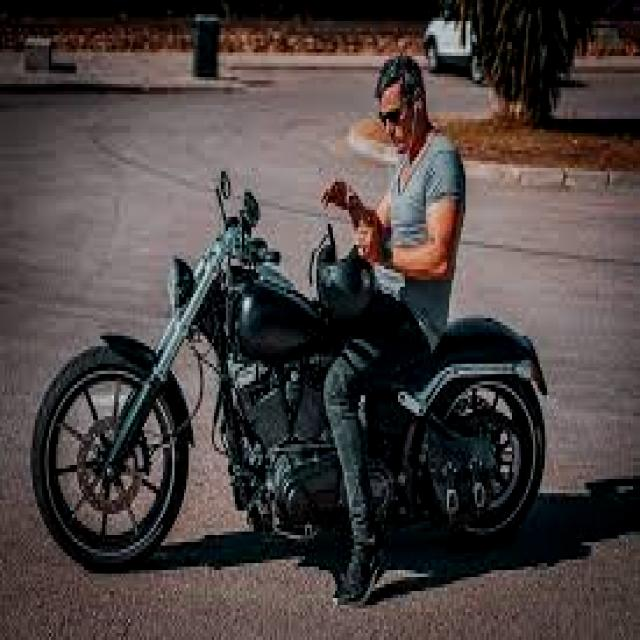MOTORCYCLE: (35, 235, 556, 572)
